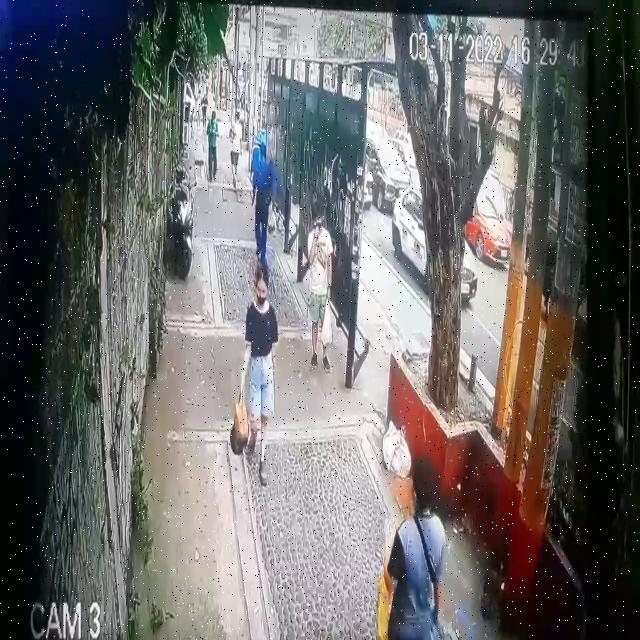human: (230, 264, 279, 486), (308, 202, 333, 374)
